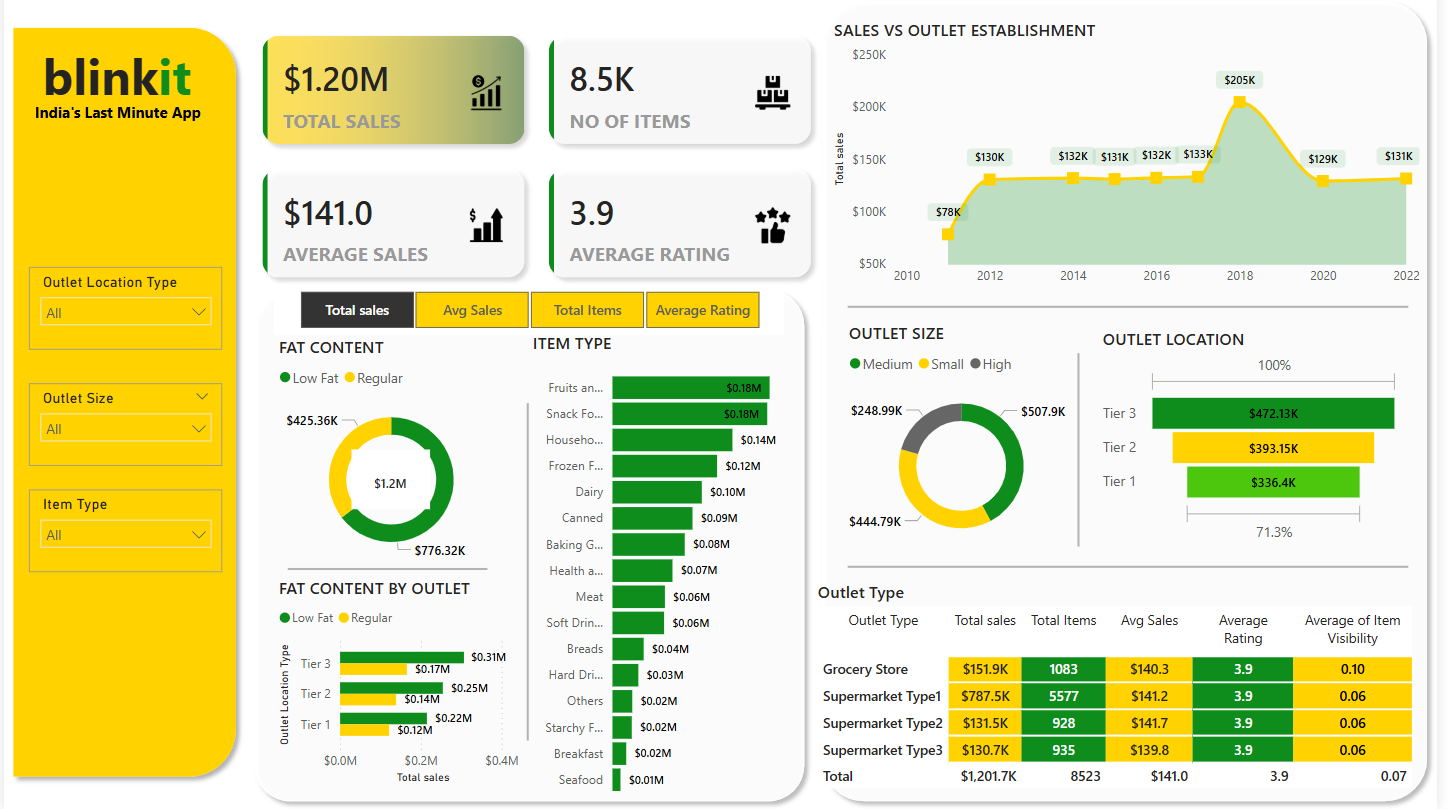

Layout of this report page (visuals, bound fields, positions):
{"tool":"powerbi","page":{"name":"Dashboard","canvas":[1400,800],"ordinal":0},"visuals":[{"type":"shape","box":[0,25.5,235.6,750.4],"z":0},{"type":"textbox","box":[24.4,44,172.3,100.2],"z":1000},{"type":"textbox","box":[20.8,102.6,180.8,41.5],"z":2000},{"type":"cardVisual","fields":{"Data":["BlinkIT Grocery Data.Total sales","BlinkIT Grocery Data.Total Items","BlinkIT Grocery Data.Avg Sales","BlinkIT Grocery Data.Average Rating"]},"box":[235.6,25.5,570.3,270.2],"z":3000},{"type":"shape","box":[235.6,282.2,555.3,517.8],"z":4000},{"type":"donutChart","title":"FAT CONTENT","fields":{"Y":["BlinkIT Grocery Data.Total sales"],"Category":["BlinkIT Grocery Data.Item Fat Content"]},"box":[264.2,335.2,229.6,232.6],"z":5000},{"type":"slicer","fields":{"Values":["Parameter1.Parameter1"]},"box":[264.2,285.7,498.3,49.5],"z":6000},{"type":"cardVisual","fields":{"Data":["BlinkIT Grocery Data.Total sales"]},"box":[339.2,447.3,76.5,58.5],"z":6001},{"type":"clusteredBarChart","title":"FAT CONTENT BY OUTLET","fields":{"Y":["BlinkIT Grocery Data.Total sales"],"Category":["BlinkIT Grocery Data.Outlet Location Type"],"Series":["BlinkIT Grocery Data.Item Fat Content"]},"box":[264.2,570.3,249.1,208.6],"z":6002},{"type":"shape","box":[277.7,553.8,195.1,21],"z":6003},{"type":"shape","box":[500.9,402,22,329.9],"z":6004},{"type":"barChart","title":"ITEM TYPE","fields":{"Category":["BlinkIT Grocery Data.Item Type"],"Y":["BlinkIT Grocery Data.Total sales"]},"box":[511.9,331.1,279.8,465.5],"z":6005},{"type":"shape","box":[791,0,609.4,800],"z":6006},{"type":"lineChart","title":"SALES VS OUTLET ESTABLISHMENT","fields":{"Category":["BlinkIT Grocery Data.Outlet Establishment Year"],"Y":["BlinkIT Grocery Data.Total sales"]},"box":[806,25.5,582.3,270.2],"z":6007},{"type":"shape","box":[824.9,305.9,547.8,4.5],"z":6008},{"type":"donutChart","title":"OUTLET SIZE","fields":{"Category":["BlinkIT Grocery Data.Outlet Size"],"Y":["BlinkIT Grocery Data.Total sales"]},"box":[821,321.2,229.6,232.6],"z":6009},{"type":"shape","box":[1029.6,352.7,40.5,189.1],"z":6010},{"type":"funnel","title":"OUTLET LOCATION","fields":{"Category":["BlinkIT Grocery Data.Outlet Location Type"],"Y":["BlinkIT Grocery Data.Total sales"]},"box":[1068.6,327.2,300.2,214.6],"z":6011},{"type":"shape","box":[824.9,559.6,547.8,4.5],"z":6012},{"type":"pivotTable","title":"Outlet Type","fields":{"Rows":["BlinkIT Grocery Data.Outlet Type"],"Values":["BlinkIT Grocery Data.Total sales","BlinkIT Grocery Data.Total Items","BlinkIT Grocery Data.Avg Sales","BlinkIT Grocery Data.Average Rating","Avg(BlinkIT Grocery Data.Item Visibility)"]},"box":[791,574.8,597.3,211.6],"z":6013},{"type":"slicer","fields":{"Values":["BlinkIT Grocery Data.Outlet Location Type"]},"box":[24,268.7,189.1,81],"z":6014},{"type":"slicer","fields":{"Values":["BlinkIT Grocery Data.Outlet Size"]},"box":[24,382.7,189.1,81],"z":6015},{"type":"slicer","fields":{"Values":["BlinkIT Grocery Data.Item Type"]},"box":[24,486.3,189.1,81],"z":6016}]}

Visuals, with their boxes in screenshot pixels (x1, y1, x2, y2), scaled from the page's 1400x800 canvas onto the 1449x809 screenshot:
shape: 0,26,244,785
textbox: 25,44,204,146
textbox: 22,104,209,146
cardVisual - BlinkIT Grocery Data.Total sales x BlinkIT Grocery Data.Total Items: 244,26,834,299
shape: 244,285,819,808
"FAT CONTENT" donutChart: 273,339,511,574
slicer - Parameter1.Parameter1: 273,289,789,339
cardVisual - BlinkIT Grocery Data.Total sales: 351,452,430,511
"FAT CONTENT BY OUTLET" clusteredBarChart: 273,577,531,788
shape: 287,560,489,581
shape: 518,407,541,740
"ITEM TYPE" barChart: 530,335,819,806
shape: 819,0,1448,808
"SALES VS OUTLET ESTABLISHMENT" lineChart: 834,26,1437,299
shape: 854,309,1421,314
"OUTLET SIZE" donutChart: 850,325,1087,560
shape: 1066,357,1108,548
"OUTLET LOCATION" funnel: 1106,331,1417,548
shape: 854,566,1421,570
"Outlet Type" pivotTable: 819,581,1437,795
slicer - BlinkIT Grocery Data.Outlet Location Type: 25,272,221,354
slicer - BlinkIT Grocery Data.Outlet Size: 25,387,221,469
slicer - BlinkIT Grocery Data.Item Type: 25,492,221,574
